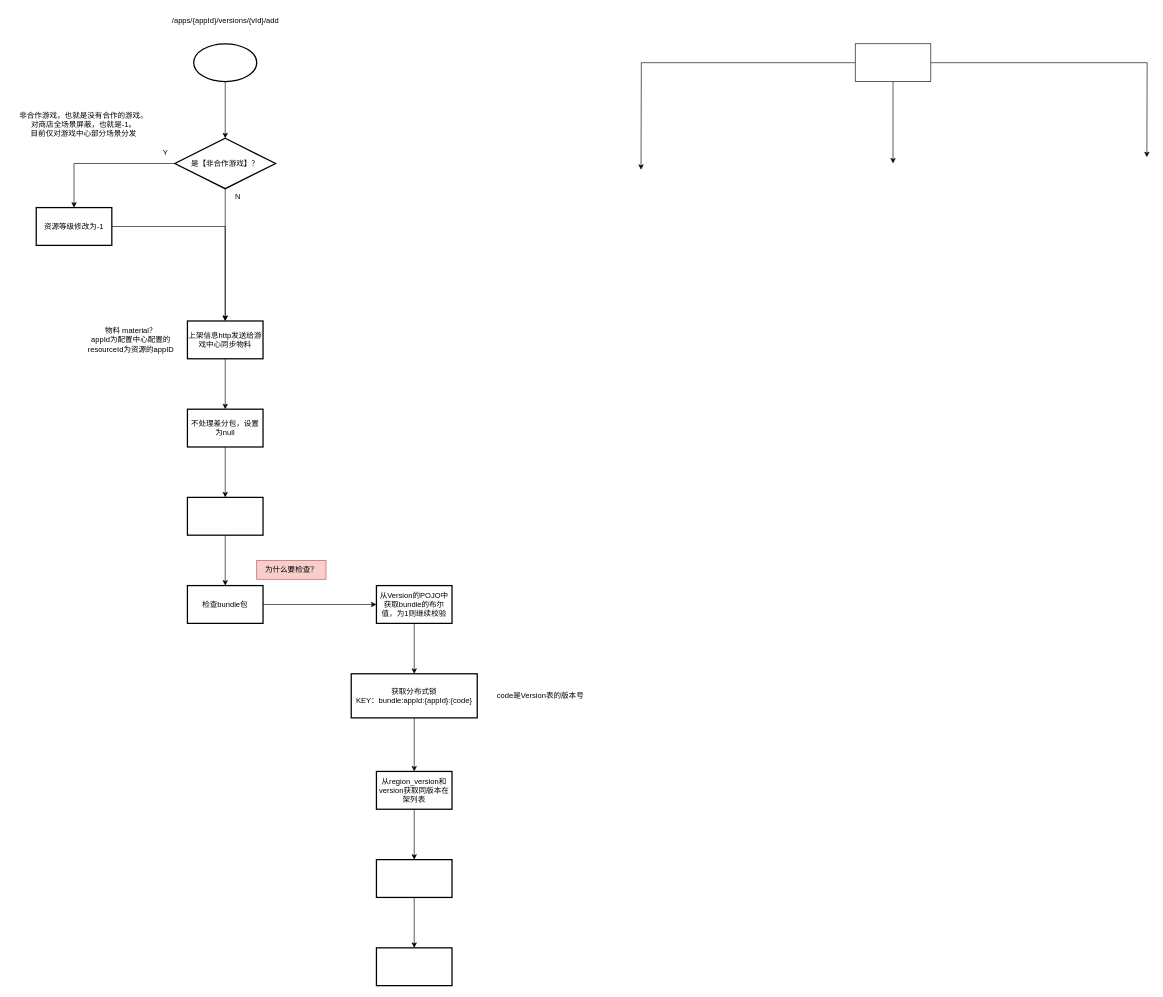
This 1163x997 diagram has some shape labels left out. Here are the shapes that lost their labels. From the top down, the box of each, then its label:
(193, 43, 257, 82): 开始 （入参携带所需资源信息）
(855, 43, 931, 82): 渠道包挂载逻辑
(186, 496, 263, 536): 设置status=1
(375, 859, 452, 898): 如果存在同版本，需要校验
